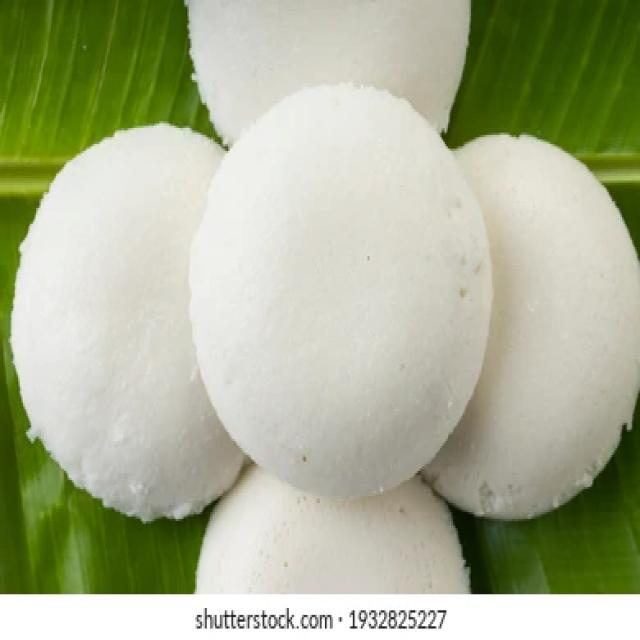IDLI: (190, 86, 490, 504), (12, 127, 238, 517), (431, 141, 638, 525), (186, 0, 471, 146), (197, 463, 468, 595)
